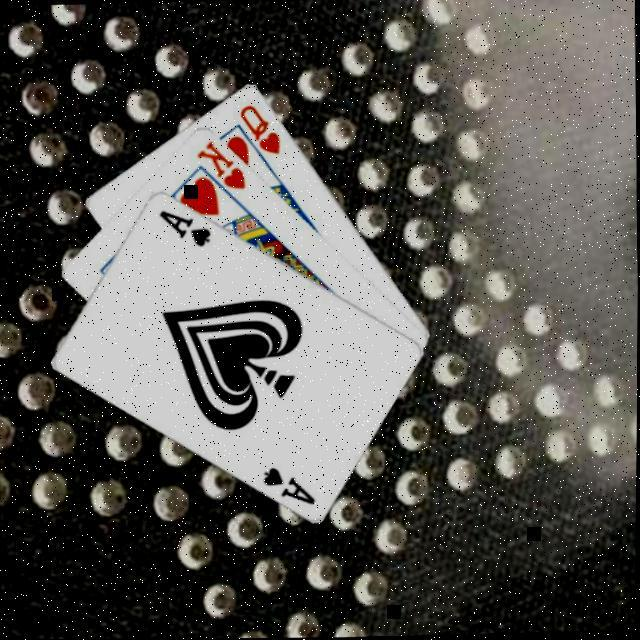AS: (258, 464, 318, 510), (154, 206, 213, 252)
KH: (192, 138, 248, 195)
QH: (235, 102, 282, 158)
